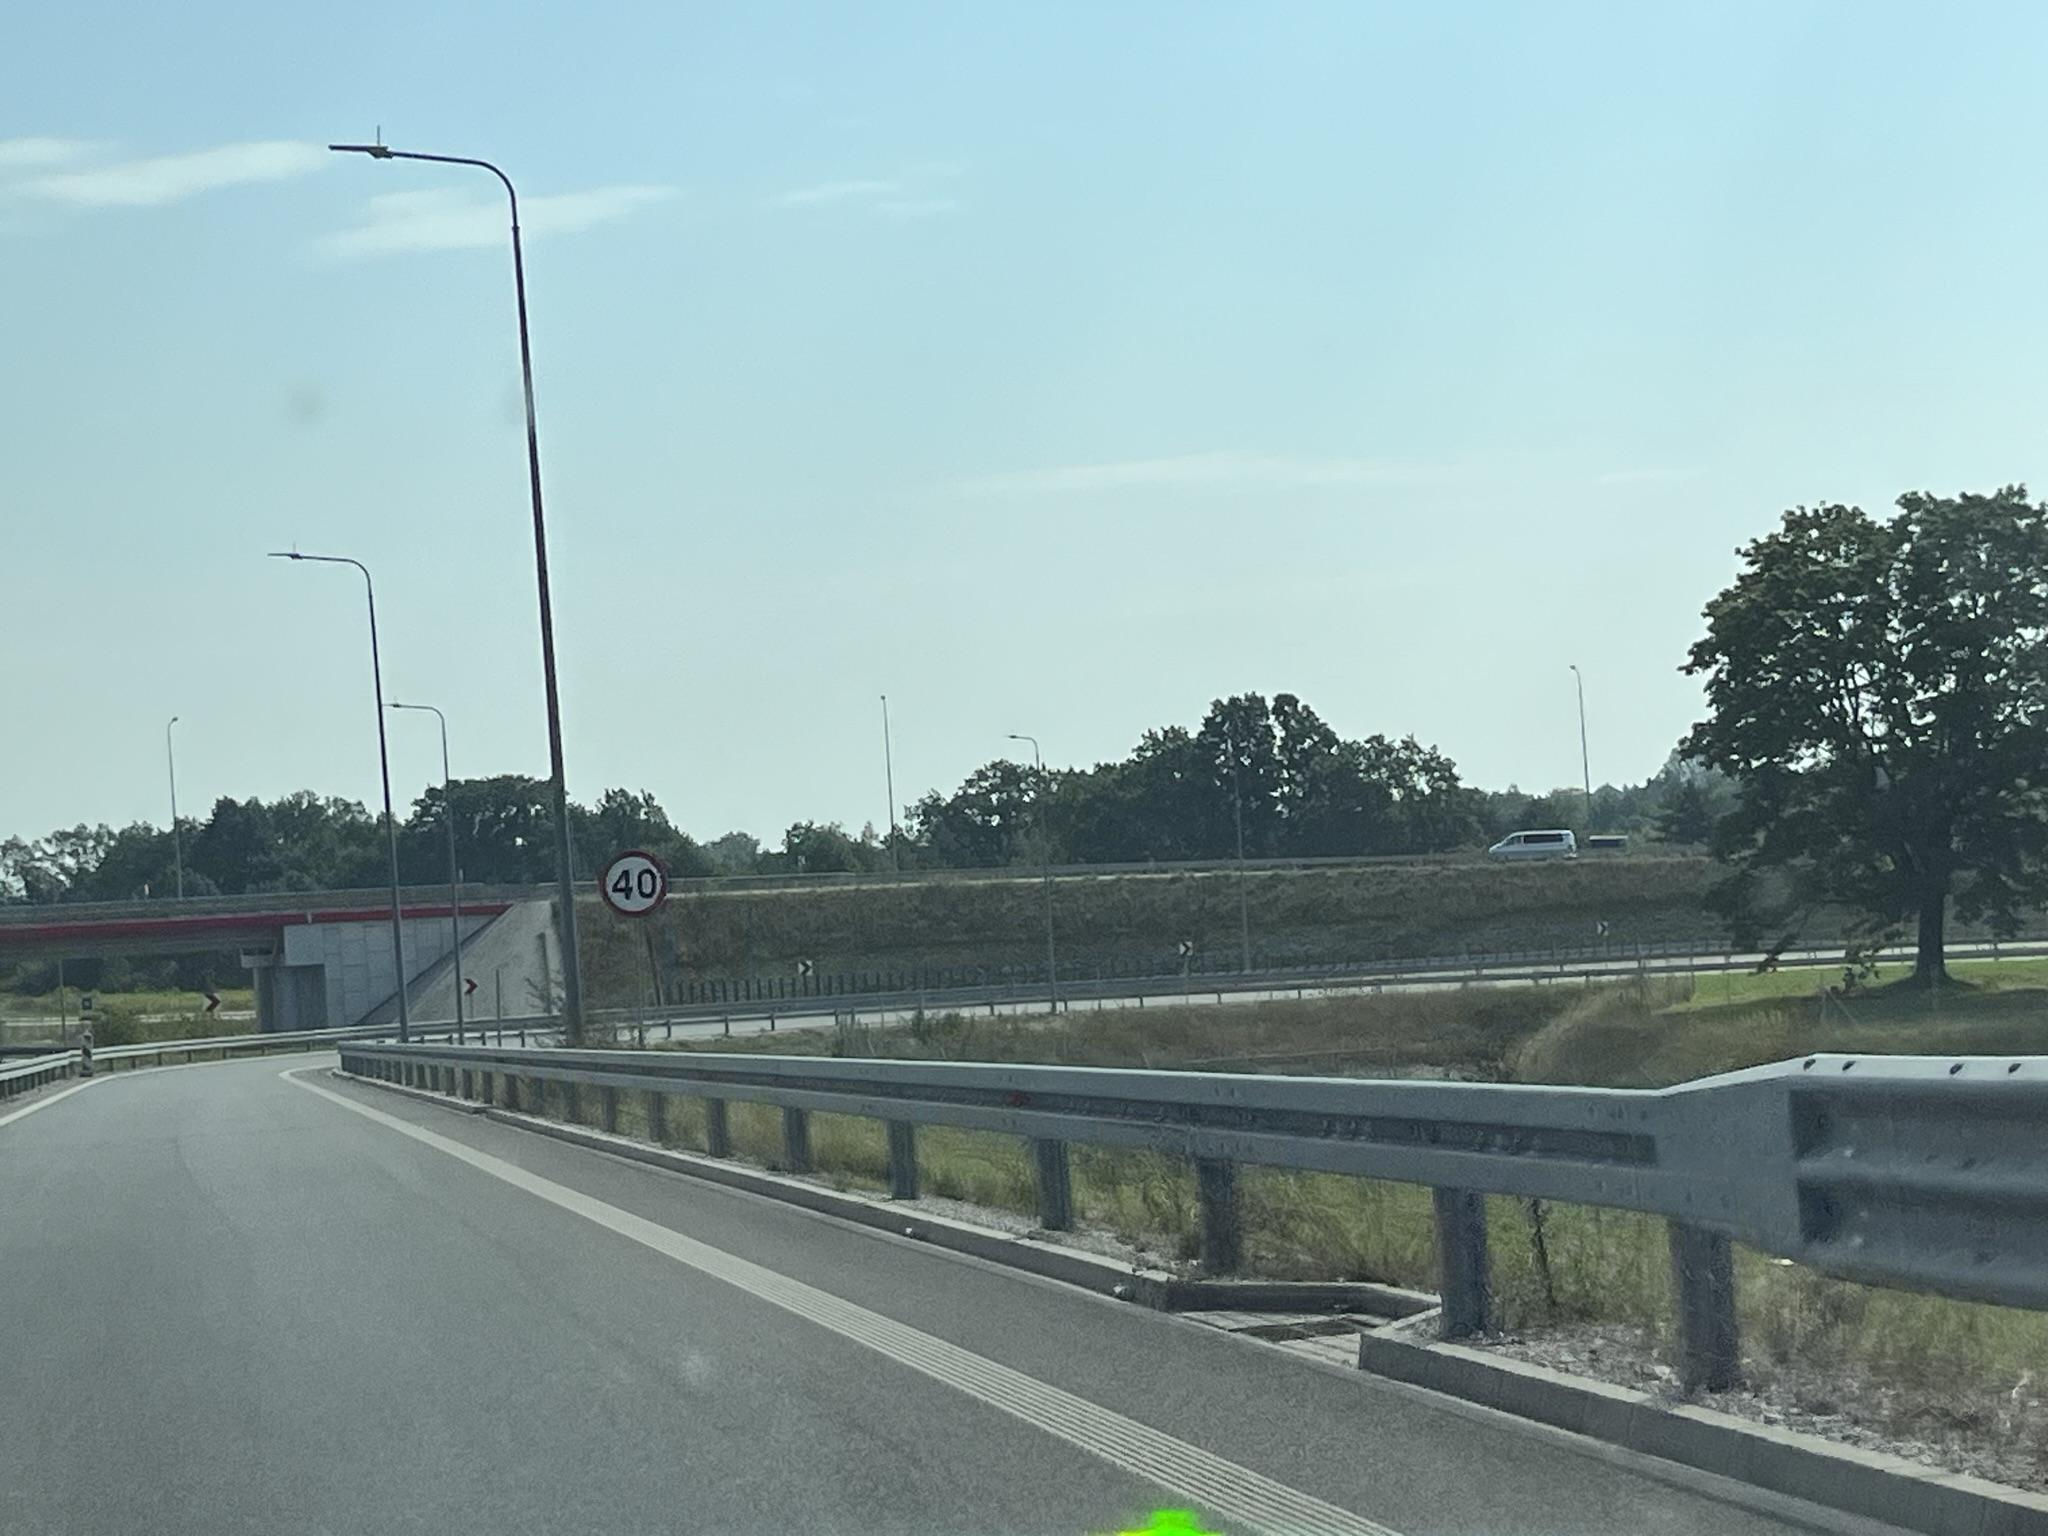prohibitory: (598, 849, 669, 920)
